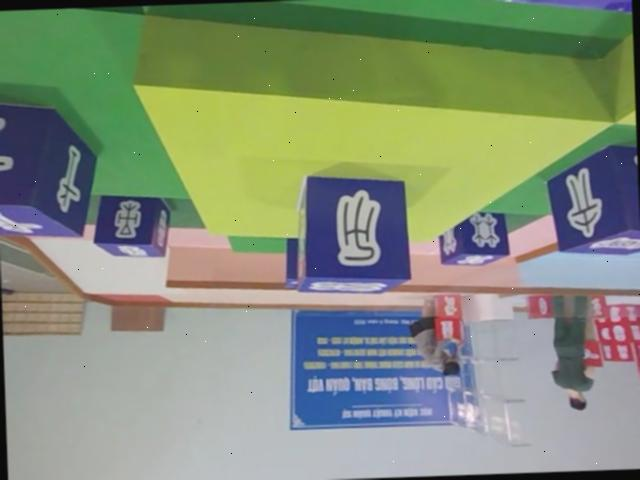R2 Fake Blue: (295, 171, 413, 297), (543, 140, 640, 256)
R2 Real Blue: (0, 91, 100, 238), (92, 191, 173, 259), (439, 212, 513, 268)
